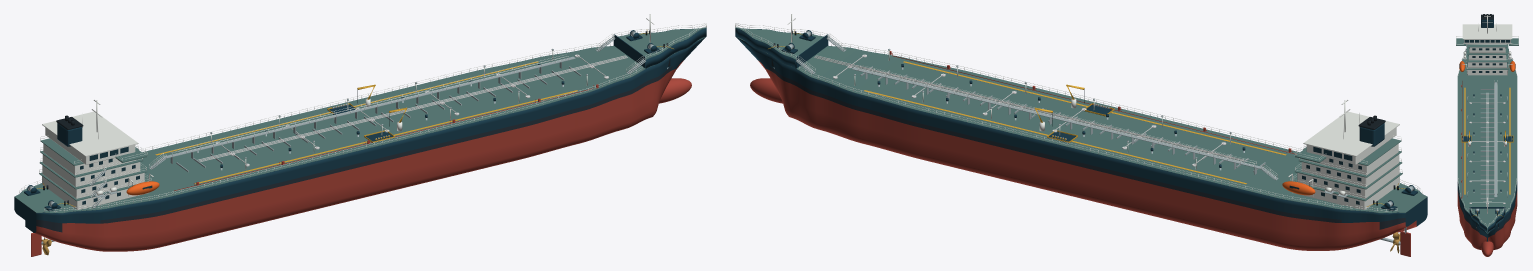
File: bulkhead_t2.glb
3 views of the same model, side by side, from view 1: azimuth 30°, elevation 25°; view 2: azimuth 150°, elevation 25°; view 3: azimuth 270°, elevation 25° (orthographic). The views are drawn at different scales.
Visible parts, largest first — view 1: Hull_near_structure, Decks_far_cover, Accommodation_far_structure, Railings_far_structure, Walkway_far_structure, Walkway_far_cover, Markings_far_cover, Hull_far_structure, PipeSupports_far_structure, Stairs_far_structure, Funnel_far_structure, Piping_cargo_main.001 (+8 smaller); view 2: Hull_far_structure, Decks_far_cover, Accommodation_far_structure, Railings_far_structure, Walkway_far_structure, Markings_far_cover, Walkway_far_cover, Funnel_far_structure, Piping_cargo_main, Mooring_far_structure, FireSystem_far_structure, Windows_far_structure (+8 smaller); view 3: Decks_far_cover, Accommodation_far_structure, Hull_far_structure, Hull_near_structure, PipeSupports_far_structure, Markings_far_cover, Railings_far_structure, Windows_far_structure, Walkway_far_cover, Survival_far_structure, Walkway_far_structure, Funnel_far_structure (+11 smaller).
Part boxes in pixels (<box>): Hull_near_structure: <box>35,28,706,251</box>; Decks_far_cover: <box>14,27,706,213</box>; Accommodation_far_structure: <box>39,111,148,209</box>; Railings_far_structure: <box>19,23,706,212</box>; Walkway_far_structure: <box>170,54,568,164</box>; Walkway_far_cover: <box>164,56,575,158</box>; Markings_far_cover: <box>155,61,577,183</box>; Hull_far_structure: <box>14,28,698,232</box>; PipeSupports_far_structure: <box>176,66,581,172</box>; Stairs_far_structure: <box>89,33,645,208</box>; Funnel_far_structure: <box>56,115,83,146</box>; Piping_cargo_main.001: <box>199,56,626,161</box>; Hull_far_structure: <box>735,28,1427,250</box>; Decks_far_cover: <box>735,27,1427,213</box>; Accommodation_far_structure: <box>1293,111,1402,209</box>; Railings_far_structure: <box>735,23,1422,212</box>; Walkway_far_structure: <box>858,65,1256,174</box>; Markings_far_cover: <box>864,61,1286,184</box>; Walkway_far_cover: <box>852,67,1263,169</box>; Funnel_far_structure: <box>1358,115,1385,146</box>; Piping_cargo_main: <box>816,55,1244,160</box>; Mooring_far_structure: <box>768,30,1417,211</box>; FireSystem_far_structure: <box>889,51,1296,154</box>; Windows_far_structure: <box>1302,146,1361,204</box>; Decks_far_cover: <box>1457,59,1517,233</box>; Accommodation_far_structure: <box>1456,24,1518,75</box>; Hull_far_structure: <box>1481,181,1517,256</box>; Hull_near_structure: <box>1457,182,1487,249</box>; PipeSupports_far_structure: <box>1480,89,1494,199</box>; Markings_far_cover: <box>1464,87,1510,194</box>; Railings_far_structure: <box>1456,36,1518,227</box>; Windows_far_structure: <box>1464,40,1510,72</box>; Walkway_far_cover: <box>1494,82,1497,196</box>; Survival_far_structure: <box>1459,51,1515,75</box>; Walkway_far_structure: <box>1494,82,1497,197</box>; Funnel_far_structure: <box>1481,14,1493,27</box>.
Size of the model in its own units: 199 by 39.64 by 27.8.
